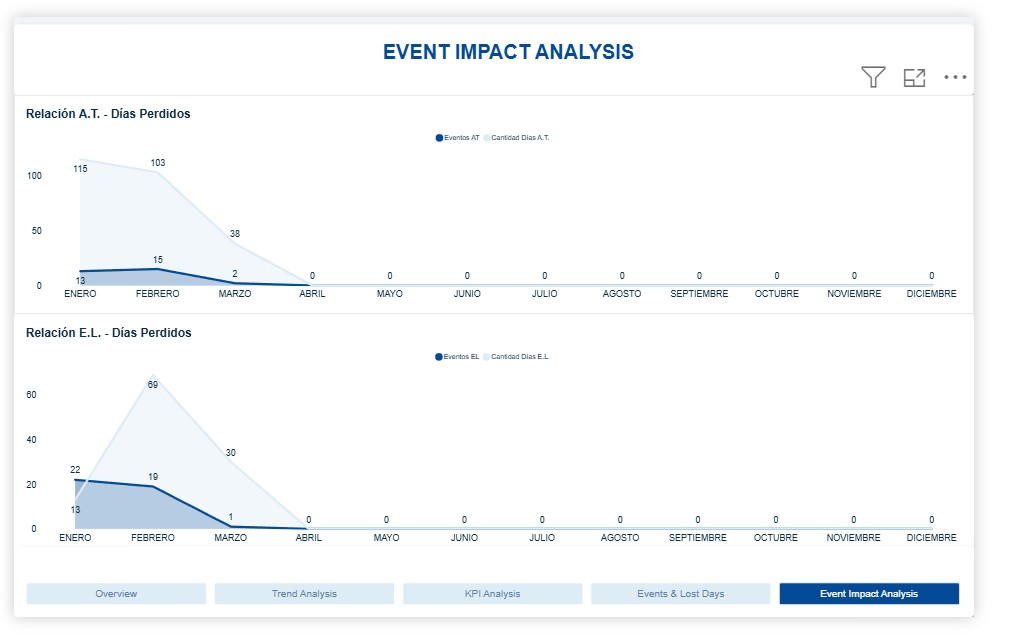

The page's visual inventory and layout, read from the dashboard file:
{"tool":"powerbi","page":{"name":"Event Impact Analysis","canvas":[1280,800],"ordinal":4},"visuals":[{"type":"shape","box":[0,9.7,1280,94.1],"z":0},{"type":"lineChart","title":"Relación A.T. - Días Perdidos","fields":{"Category":["Tabla_Meses.MES"],"Y":["IndCausaMedica.Eventos AT","IndCausaMedica.Cantidad Días A.T."]},"box":[0,103.8,1280,292],"z":1000},{"type":"lineChart","title":"Relación E.L. - Días Perdidos","fields":{"Category":["Tabla_Meses.MES"],"Y":["IndCausaMedica.Eventos EL","IndCausaMedica.Cantidad Días E.L."]},"box":[0,395.7,1280,324.5],"z":2000},{"type":"textbox","box":[70,15.7,1178.6,82.9],"z":4000},{"type":"shape","box":[0,705.7,1280,94.3],"z":5000},{"type":"pageNavigator","box":[0,738.6,1277.1,61.4],"z":6000}]}

Visuals, with their boxes in screenshot pixels (x1, y1, x2, y2), scaled from the page's 1280x800 canvas onto the 1015x634 screenshot:
shape: (x1=0, y1=8, x2=1014, y2=82)
"Relación A.T. - Días Perdidos" lineChart: (x1=0, y1=82, x2=1014, y2=314)
"Relación E.L. - Días Perdidos" lineChart: (x1=0, y1=314, x2=1014, y2=571)
textbox: (x1=56, y1=12, x2=990, y2=78)
shape: (x1=0, y1=559, x2=1014, y2=633)
pageNavigator: (x1=0, y1=585, x2=1013, y2=633)
